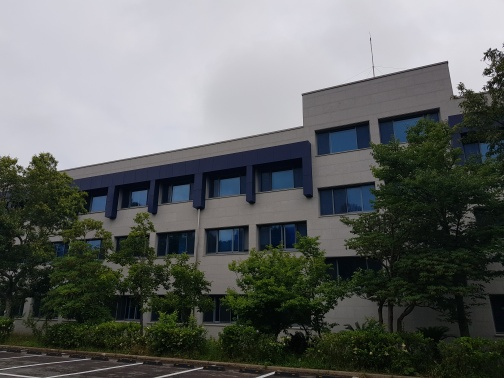College of Social Sciences: (75, 60, 494, 340), (96, 152, 316, 222)
